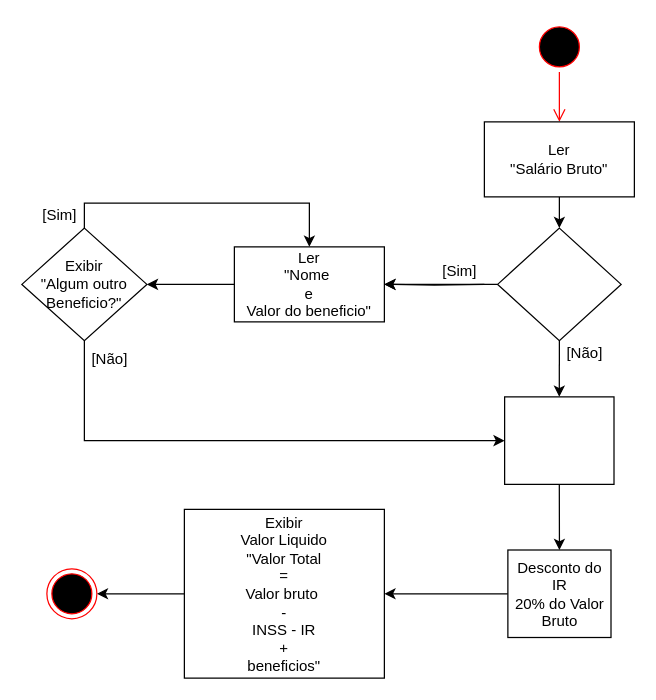
Some shapes in this 656 by 700 pixel diagram are drawn without their labels. Here are the shapes that lost their labels. From the top down, the centre of each, then its label:
(558,284): "Você recebe algum benefio ou outro beneficio"
(558,440): Desconto do INSS 10% do Valor bruto
